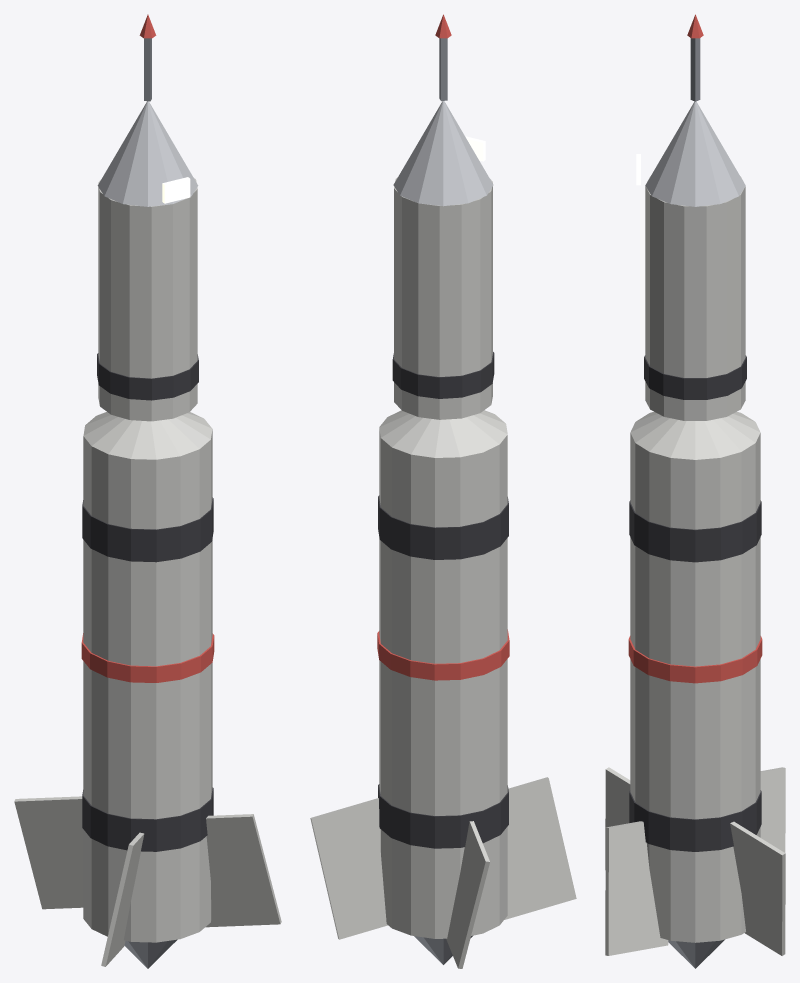
The model's file is rocket.glb.
The picture shows the model from 3 angles, left to right: view 1: azimuth 30°, elevation 25°; view 2: azimuth 150°, elevation 25°; view 3: azimuth 270°, elevation 25°; orthographic projection.
Parts seen in each view (by area): view 1: rocket; view 2: rocket; view 3: rocket.
Part boxes in pixels (left/top/right/bottom): rocket: left=14, top=14, right=281, bottom=968; rocket: left=310, top=14, right=576, bottom=968; rocket: left=605, top=14, right=785, bottom=968.
Size of the model in its own units: 3.52 by 17.8 by 3.04.
